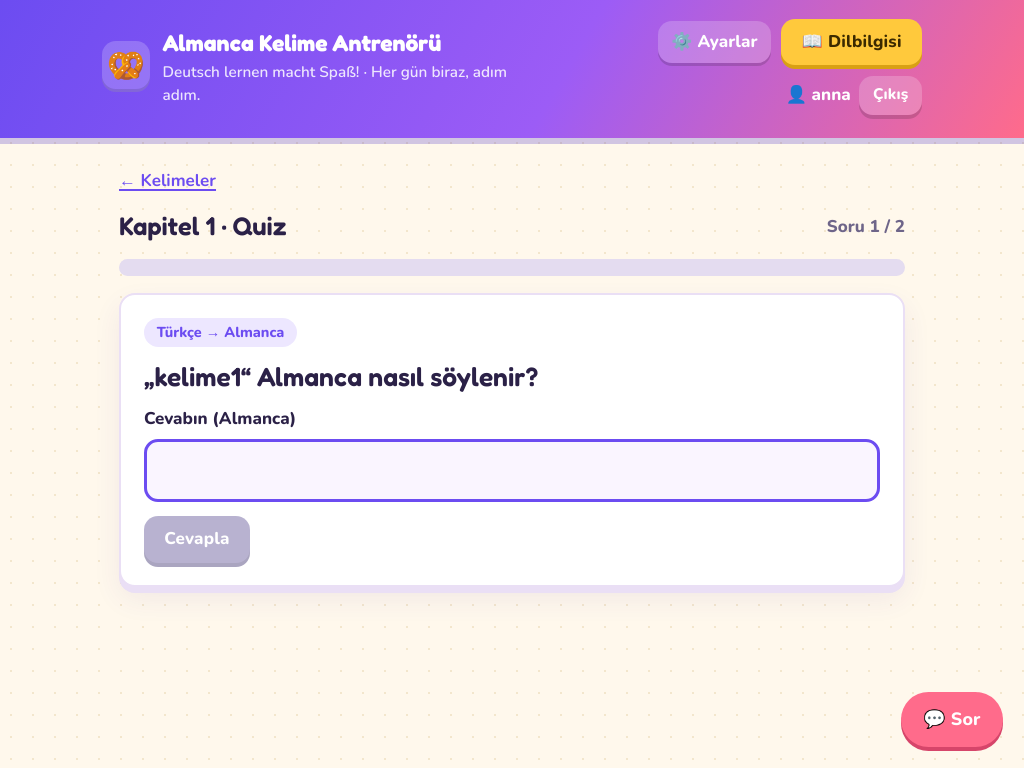
QuizPage › keeps the question open when the evaluation fails, so it can be retried
Check: the heading "„kelime1“ Almanca nasıl söylenir?" is shown, box [144,360,538,392]
Type "Wort1" into the field labelled "Cevabın (Almanca)".
click(512, 471); type("Wort1")  # box [144,439,880,502]
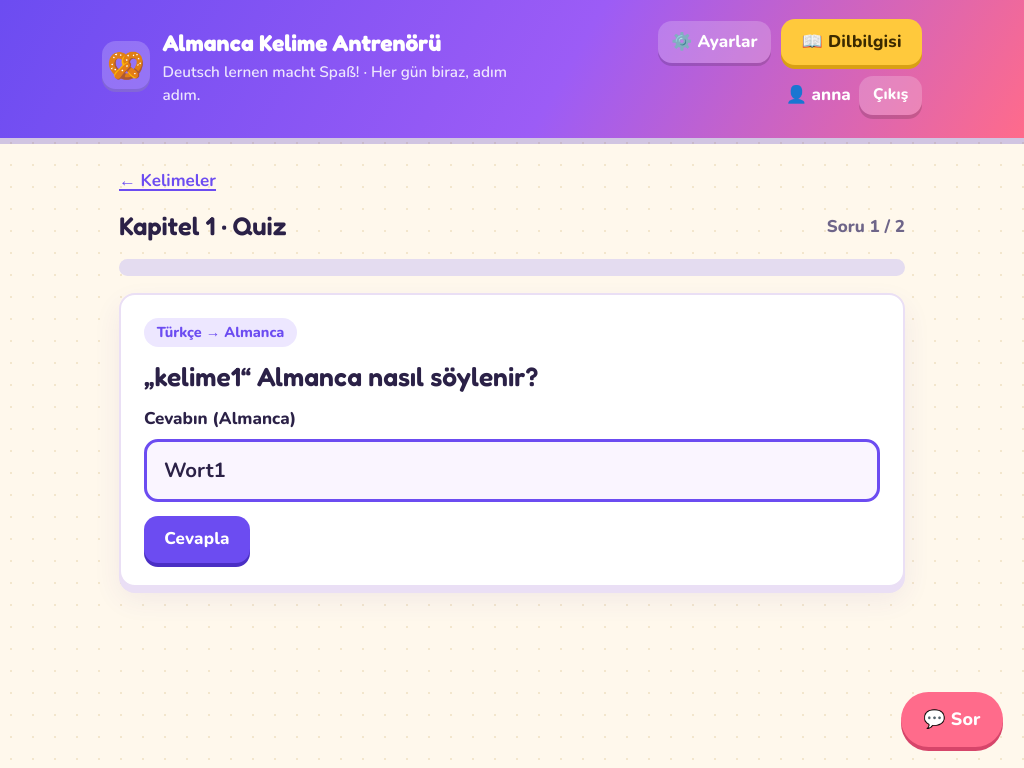
Click the button "Cevapla".
click(197, 539)  # box [144,516,250,562]
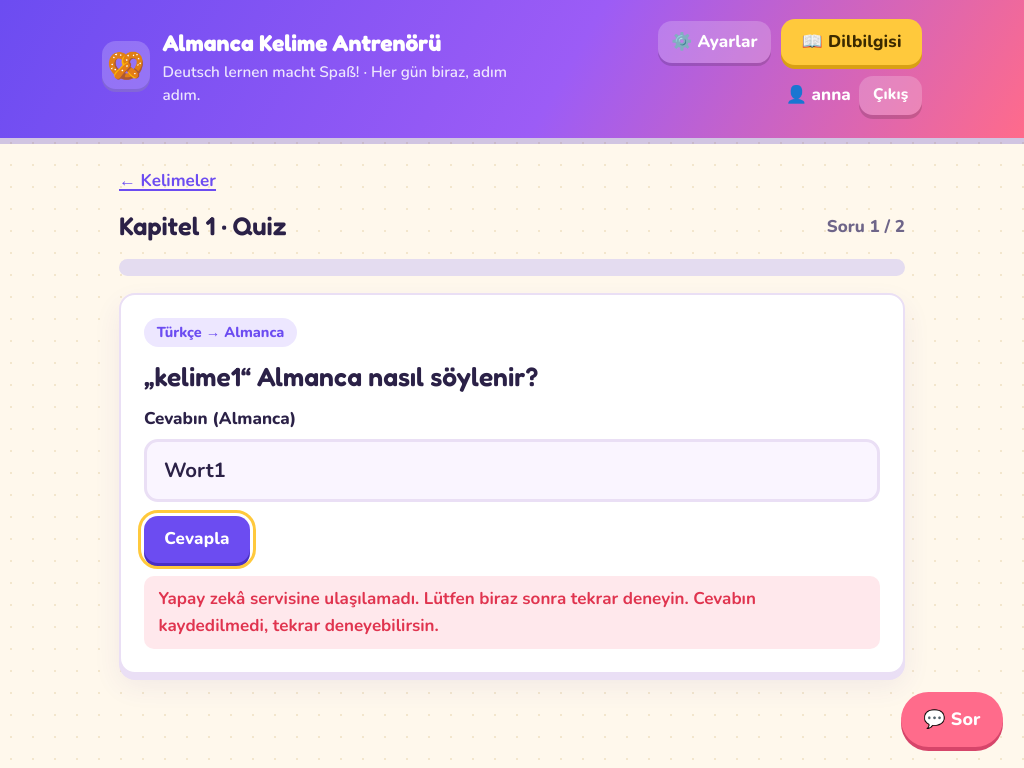
Check: the message shows "tekrar deneyebilirsin", box [158,587,756,637]
Click the button "Cevapla".
click(197, 539)  # box [144,516,250,562]
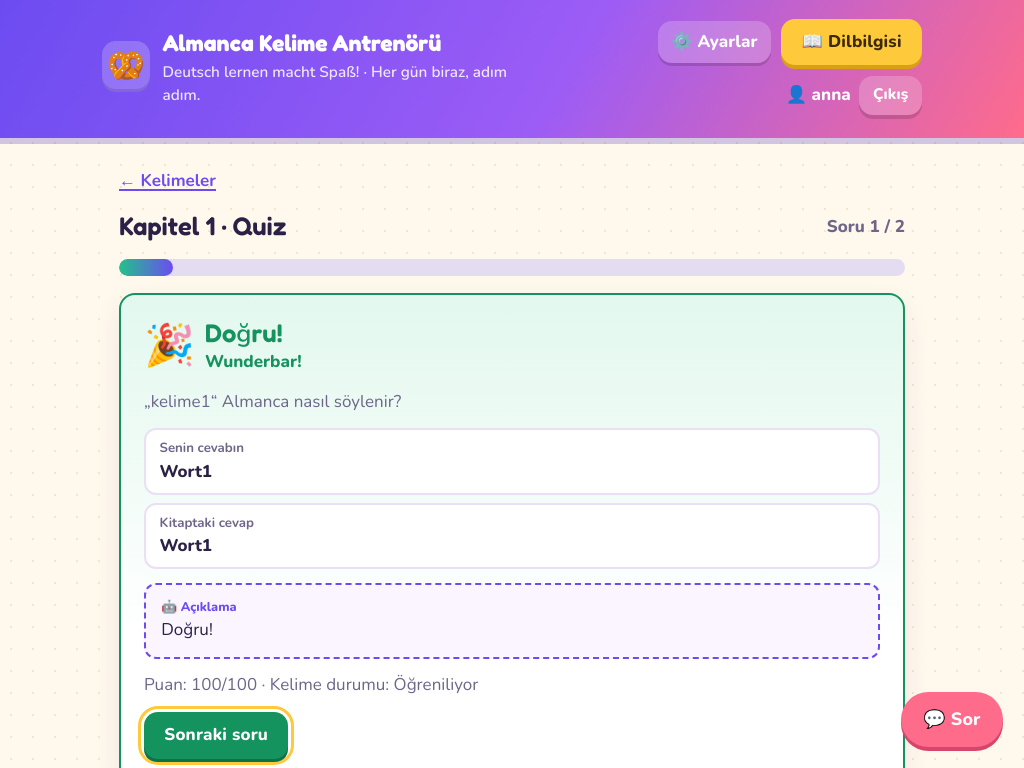
Check: the heading "Doğru!" is shown, box [205,317,283,348]
